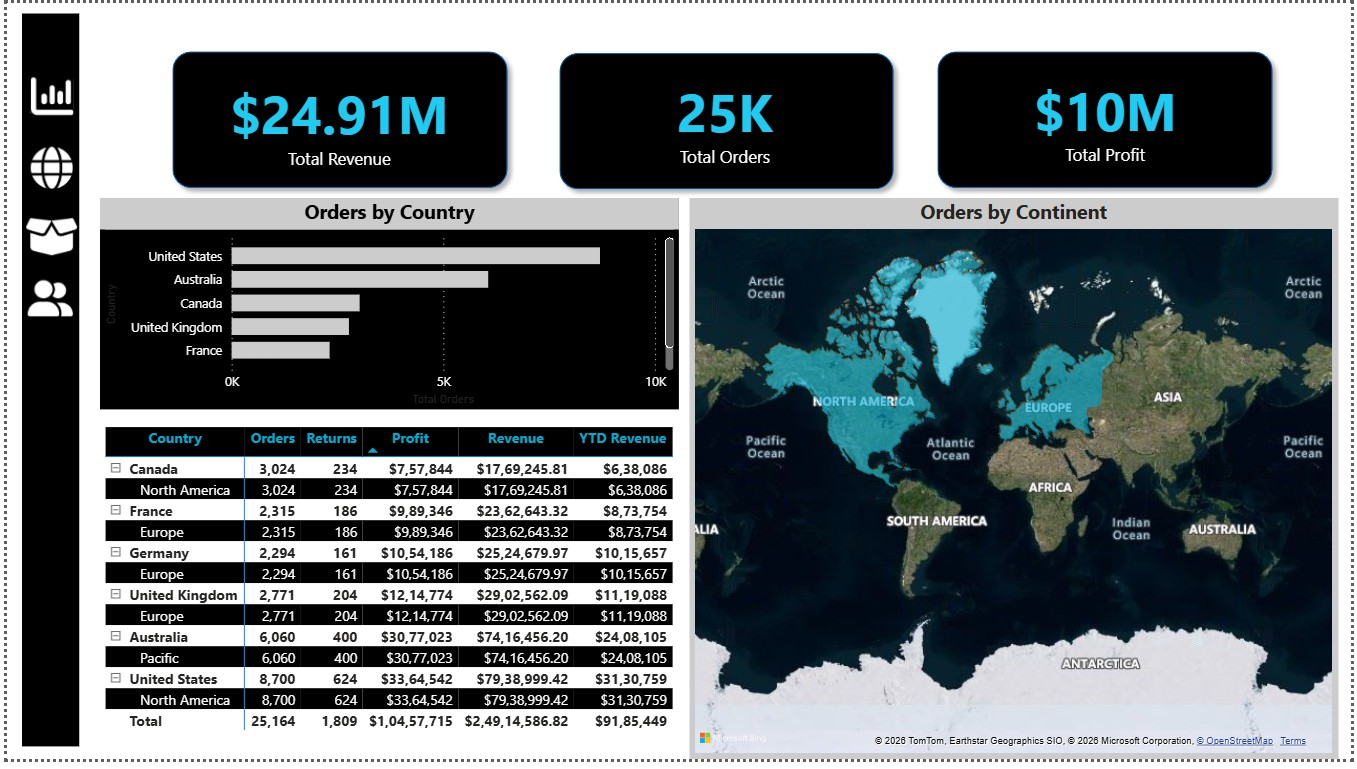

What the dashboard file says about the page in this screenshot:
{"tool":"powerbi","page":{"name":"Map","canvas":[1280,720],"ordinal":1},"visuals":[{"type":"shape","box":[13.6,10.6,54.5,698],"z":0},{"type":"shape","box":[877.3,37.8,337.1,148.1],"z":1000},{"type":"actionButton","box":[19.2,64.4,73.5,49],"z":1000,"group":"g1"},{"type":"card","fields":{"Values":["Measure Table.Total Profit"]},"box":[877.3,36.2,337.1,149.6],"z":2000},{"type":"actionButton","box":[14.2,194.7,99.2,56.5],"z":2000,"group":"g1"},{"type":"card","fields":{"Values":["Measure Table.Total Revenue"]},"box":[148.1,36.2,337.1,149.6],"z":3000},{"type":"actionButton","box":[15.5,256.5,61.9,51],"z":3000,"group":"g1"},{"type":"actionButton","box":[18.1,133.2,61.9,48.2],"z":4000,"group":"g1"},{"type":"clusteredBarChart","title":"Orders by Country","fields":{"Category":["Territory Lookup.Country"],"Y":["Measure Table.Total Orders"]},"box":[88.2,185.9,551.3,201.6],"z":4000},{"type":"shape","box":[516.5,38.5,336.2,147.8],"z":5000},{"type":"shape","box":[148.1,37.8,337.1,148.1],"z":6000},{"type":"card","fields":{"Values":["Measure Table.Total Orders"]},"box":[514.4,36.5,338.2,149.9],"z":7000},{"type":"card","fields":{"Values":["Measure Table.Total Revenue"]},"box":[147.8,38.5,338.2,149.9],"z":8000},{"type":"filledMap","title":"Orders by Continent","fields":{"Category":["Territory Lookup.Territory Hierarchy.Continent","Territory Lookup.Territory Hierarchy.Country"]},"box":[650.5,185.9,617.4,534],"z":9000},{"type":"pivotTable","fields":{"Rows":["Territory Lookup.Country","Territory Lookup.Continent"],"Values":["Measure Table.Total Orders","Measure Table.Total Returns","Measure Table.Total Profit","Measure Table.Total Revenue","Measure Table.YTD Revenue"]},"box":[88.2,398.5,551.3,310.3],"z":10000},{"type":"group","id":"g1","title":"Buttons","box":[14.2,64.4,99.2,243.5],"z":11000}]}

Visuals, with their boxes on the page's 1280x720 design canvas (x1, y1, x2, y2). These are canvas units, not pixel positions in the 1357x769 screenshot, which may show the page scaled, cropped or inside an application window:
shape: 14 11 68 709
shape: 877 38 1214 186
actionButton: 19 64 93 113
card - Measure Table.Total Profit: 877 36 1214 186
actionButton: 14 195 113 251
card - Measure Table.Total Revenue: 148 36 485 186
actionButton: 16 256 77 308
actionButton: 18 133 80 181
"Orders by Country" clusteredBarChart: 88 186 640 388
shape: 516 38 853 186
shape: 148 38 485 186
card - Measure Table.Total Orders: 514 36 853 186
card - Measure Table.Total Revenue: 148 38 486 188
"Orders by Continent" filledMap: 650 186 1268 720
pivotTable - Territory Lookup.Country x Territory Lookup.Continent: 88 398 640 709
"Buttons" group: 14 64 113 308
